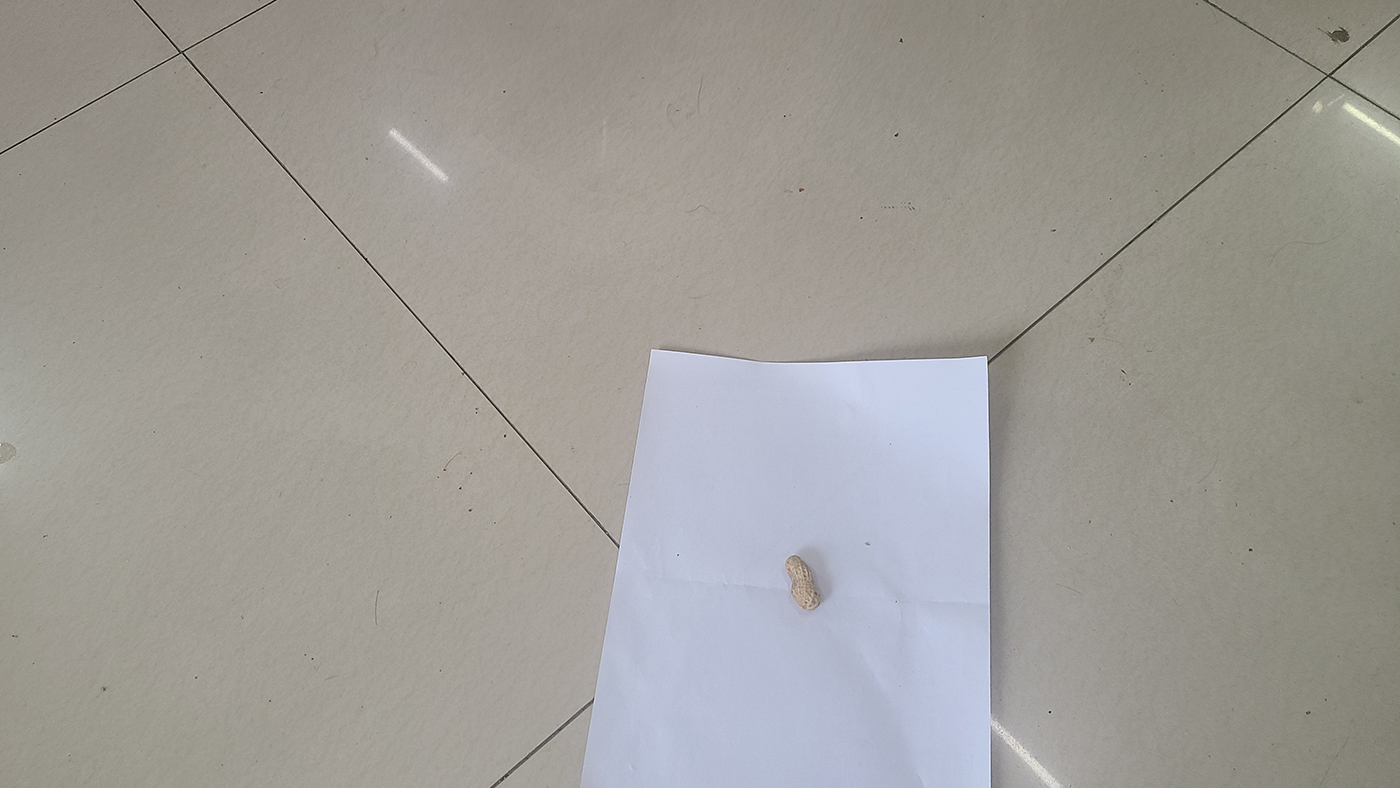h: (785, 555, 821, 610)
